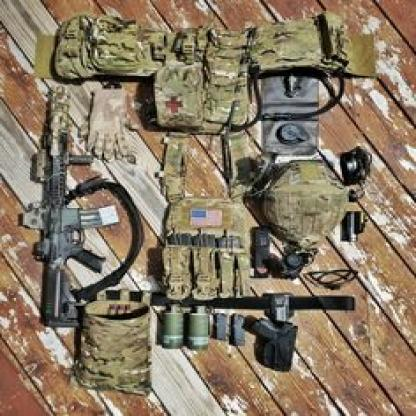Grenade: (185, 304, 215, 352), (159, 301, 186, 349)
Gun: (18, 86, 120, 329)
Pistol: (247, 314, 299, 374)
